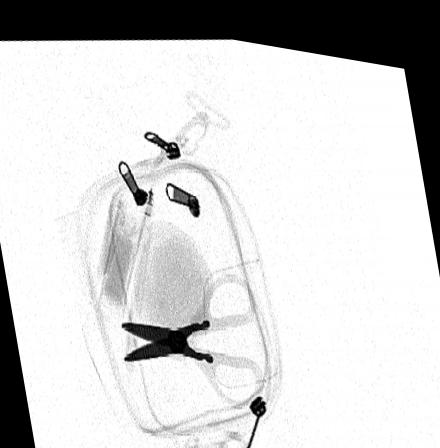Scissors: (116, 262, 267, 402)
